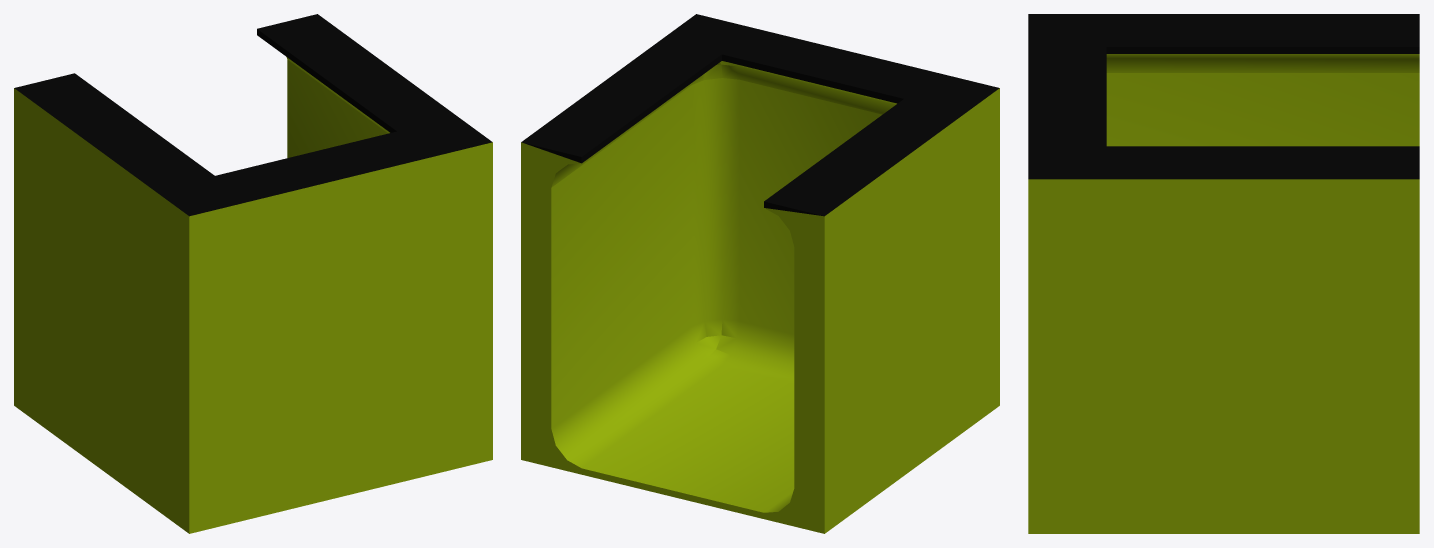
The model's file is Tileset_1.fbx.
3 views of the same model, side by side, from view 1: azimuth 30°, elevation 25°; view 2: azimuth 150°, elevation 25°; view 3: azimuth 270°, elevation 25° (orthographic). The views are drawn at different scales.
Parts seen in each view (by area): view 1: Tileset_1; view 2: Tileset_1; view 3: Tileset_1.
Part boxes in pixels (bbox=[...]): Tileset_1: bbox=[14, 14, 492, 533]; Tileset_1: bbox=[521, 14, 999, 533]; Tileset_1: bbox=[1028, 14, 1419, 533].
Size of the model in its own units: 100 by 100 by 100.
